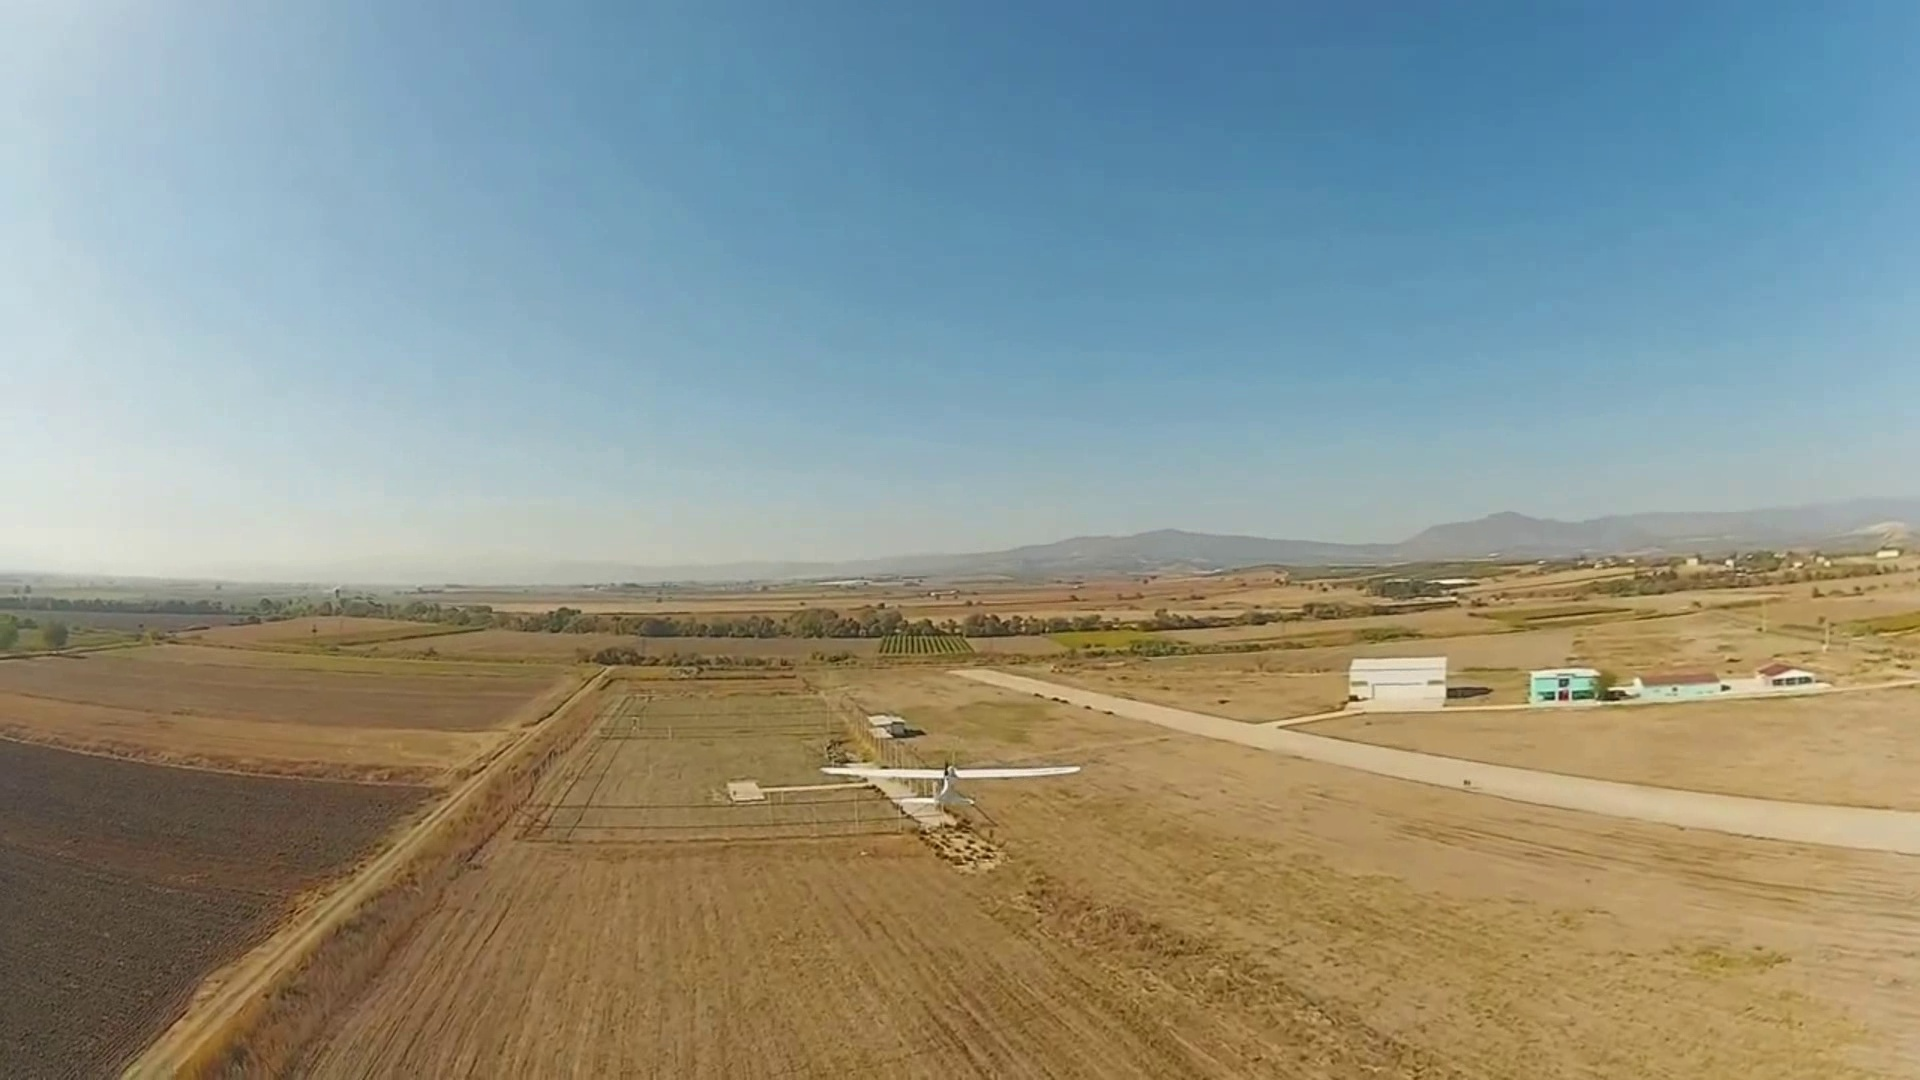airplane: (820, 710, 1085, 850)
